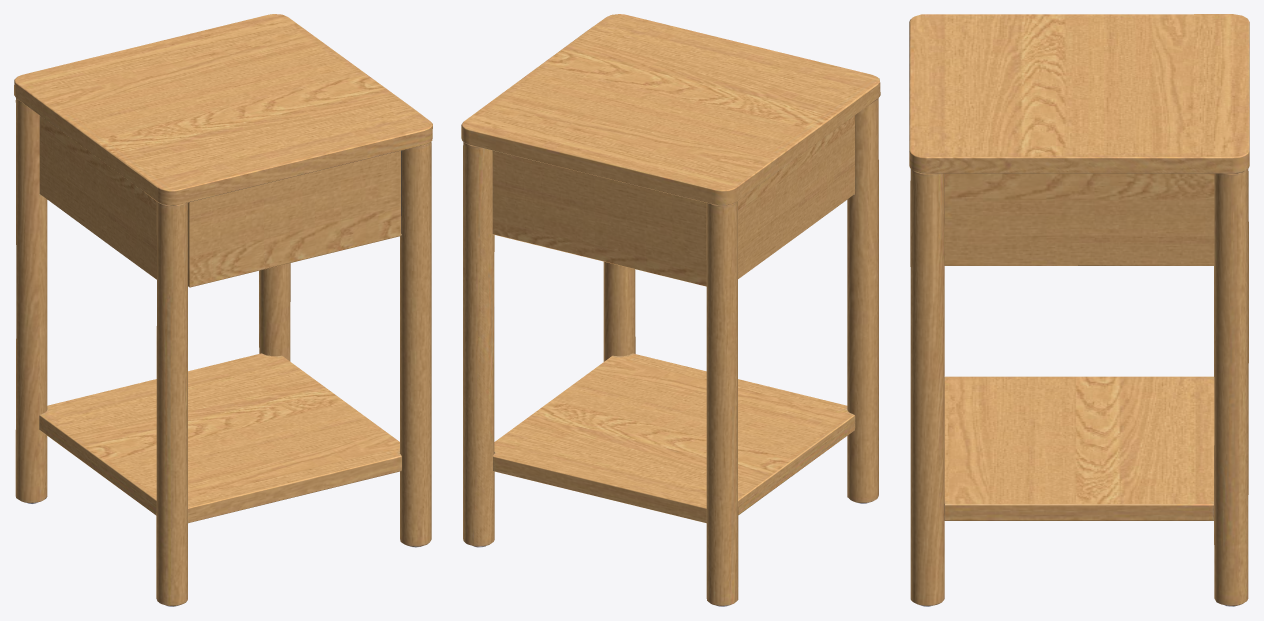
Rendered from tonstad_stolik_nocny_80489322.glb.
3 renders of one model, left to right at view 1: azimuth 30°, elevation 25°; view 2: azimuth 150°, elevation 25°; view 3: azimuth 270°, elevation 25°, orthographic. The views are drawn at different scales.
Visible parts, largest first — view 1: tonstad_stolik_nocny_80489322; view 2: tonstad_stolik_nocny_80489322; view 3: tonstad_stolik_nocny_80489322.
Boxes of the visible parts, x1,y1,x2,y2 form: tonstad_stolik_nocny_80489322: (14,14,432,606); tonstad_stolik_nocny_80489322: (461,14,880,606); tonstad_stolik_nocny_80489322: (909,14,1249,606).
Bounding box in the file's own units: 0.4011 × 0.5901 × 0.4011.
1 material, 1 textured.
